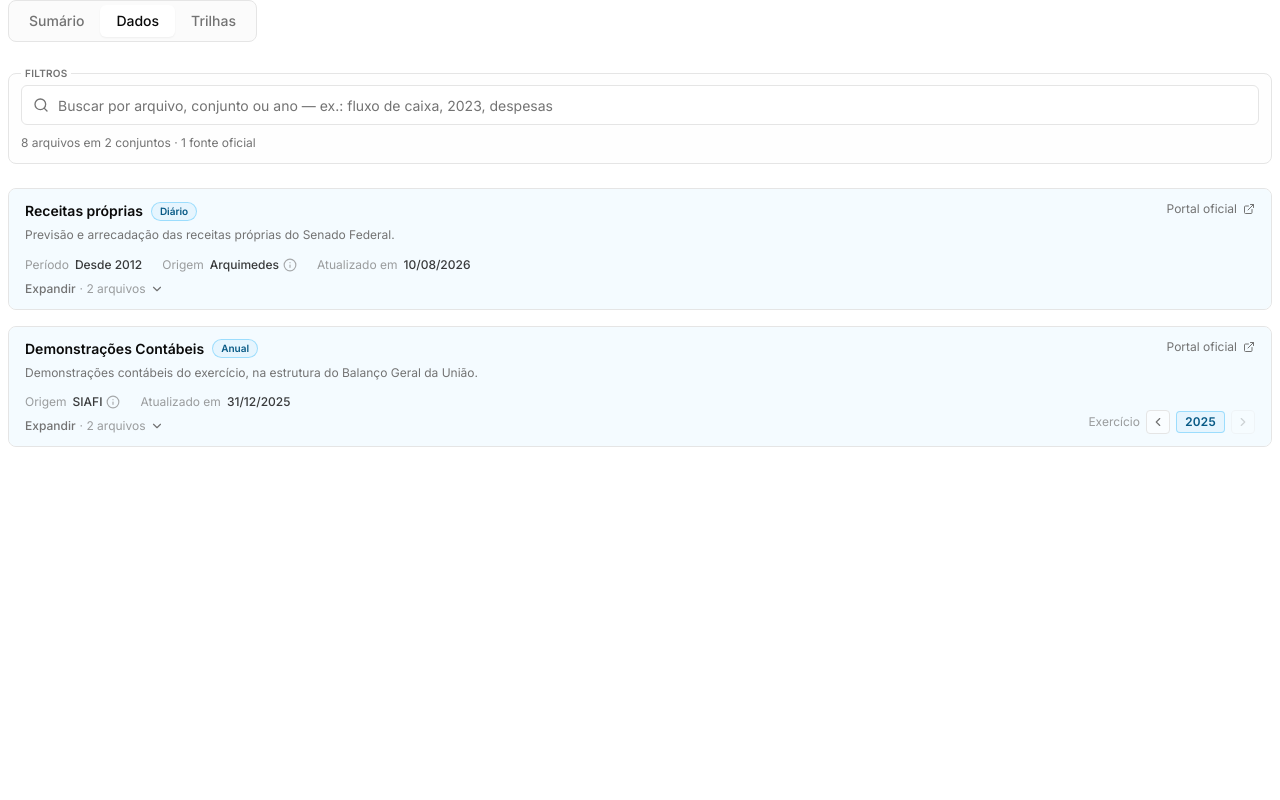
Test case: FonteDeDadosView › inicia cada conjunto recolhido e permite expandi-lo e recolhê-lo
Expected: the text "8 arquivos em 2 conjuntos · 1 fonte oficial" is shown, [21,135,256,150]
Expected: the text "Balanço Patrimonial" is not shown
Click the button with aria-label "Expandir Demonstrações Contábeis": (94, 426) [25,418,164,434]
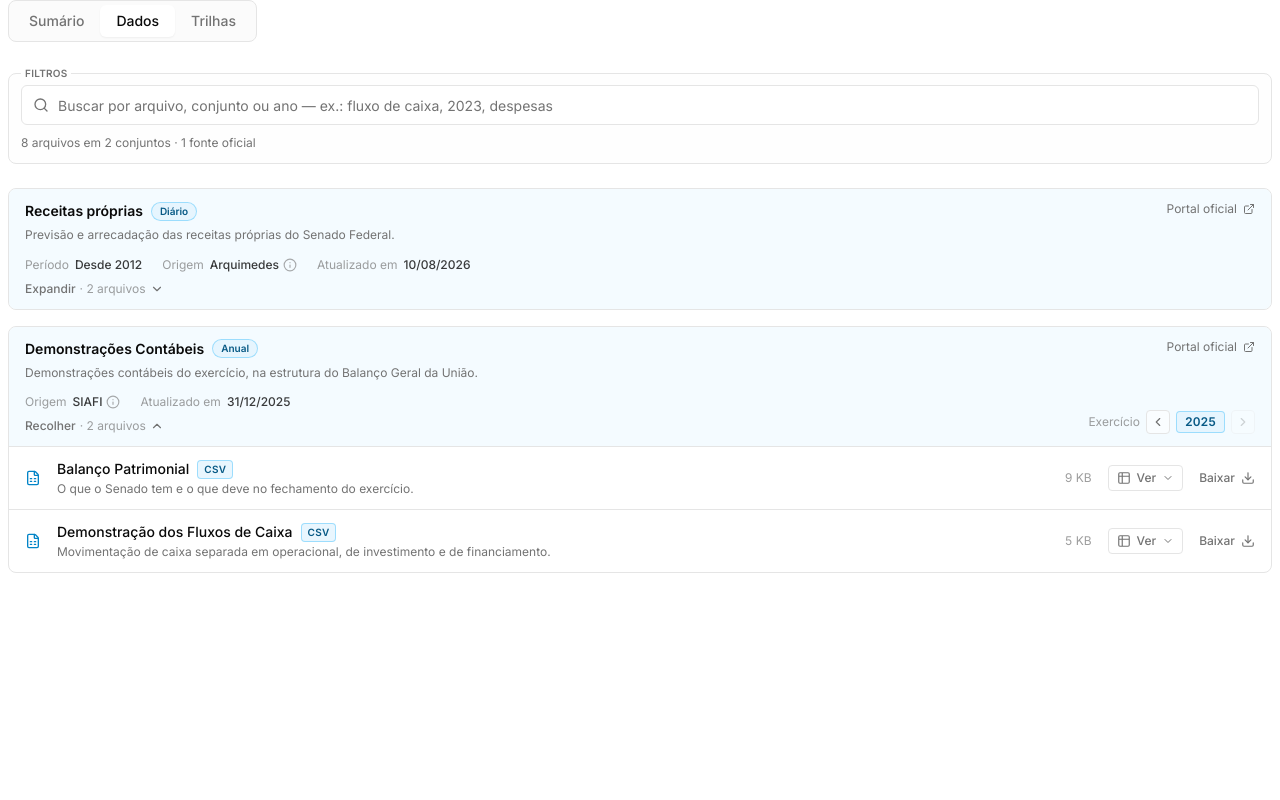
Expected: the button with aria-label "Recolher Demonstrações Contábeis" is expanded
Expected: the text "Balanço Patrimonial" is shown, [57,459,189,479]
Click the button with aria-label "Recolher Demonstrações Contábeis": (94, 426) [25,418,164,434]
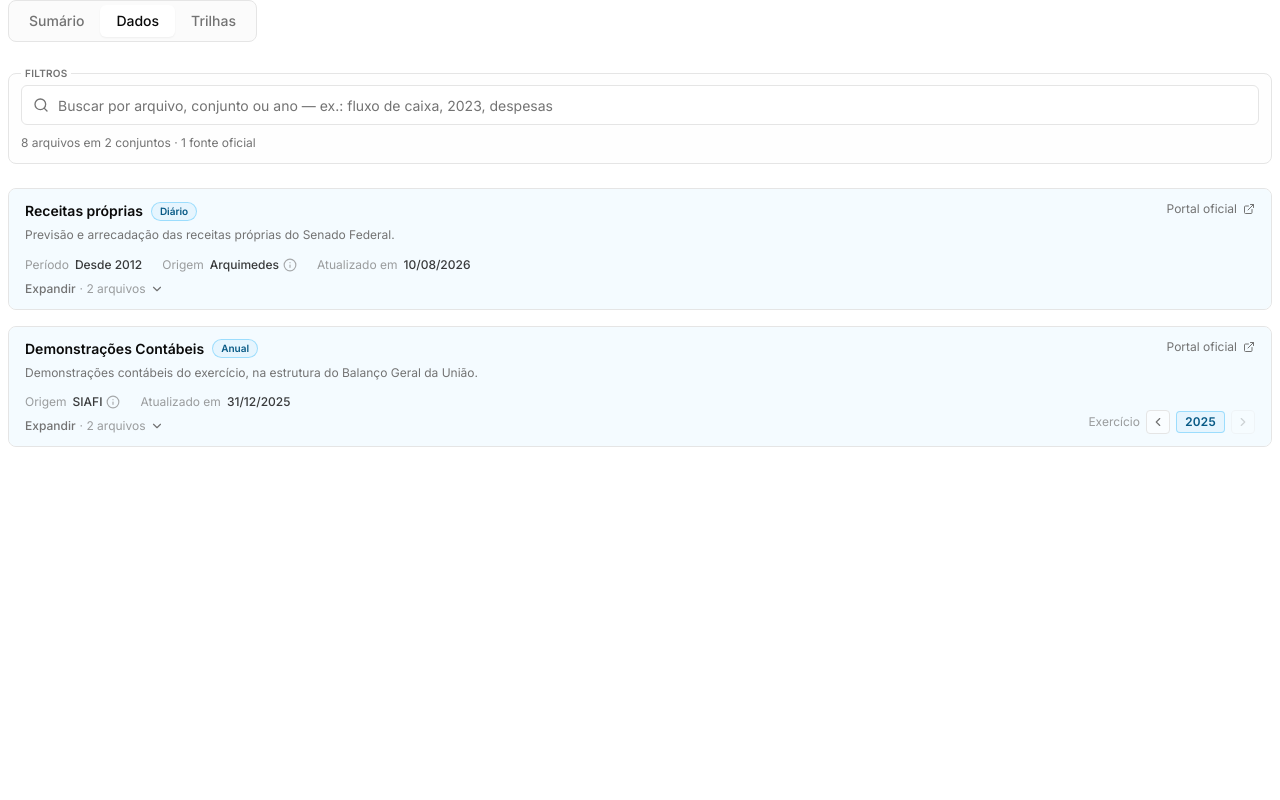
Expected: the text "Balanço Patrimonial" is gone
